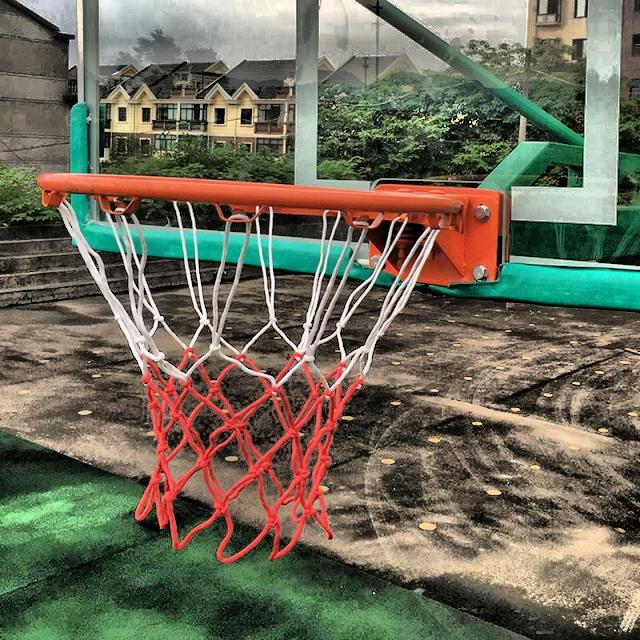rim: (32, 174, 454, 555)
